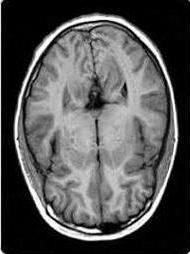Normal_Brain: (5, 1, 190, 234)
